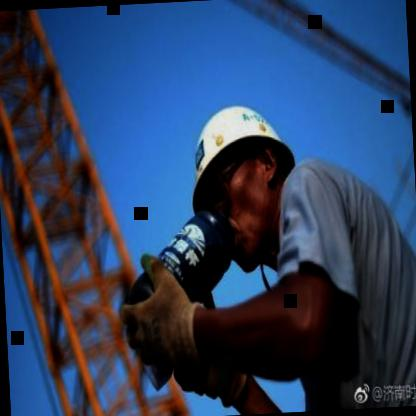helmet: (182, 103, 303, 271)
